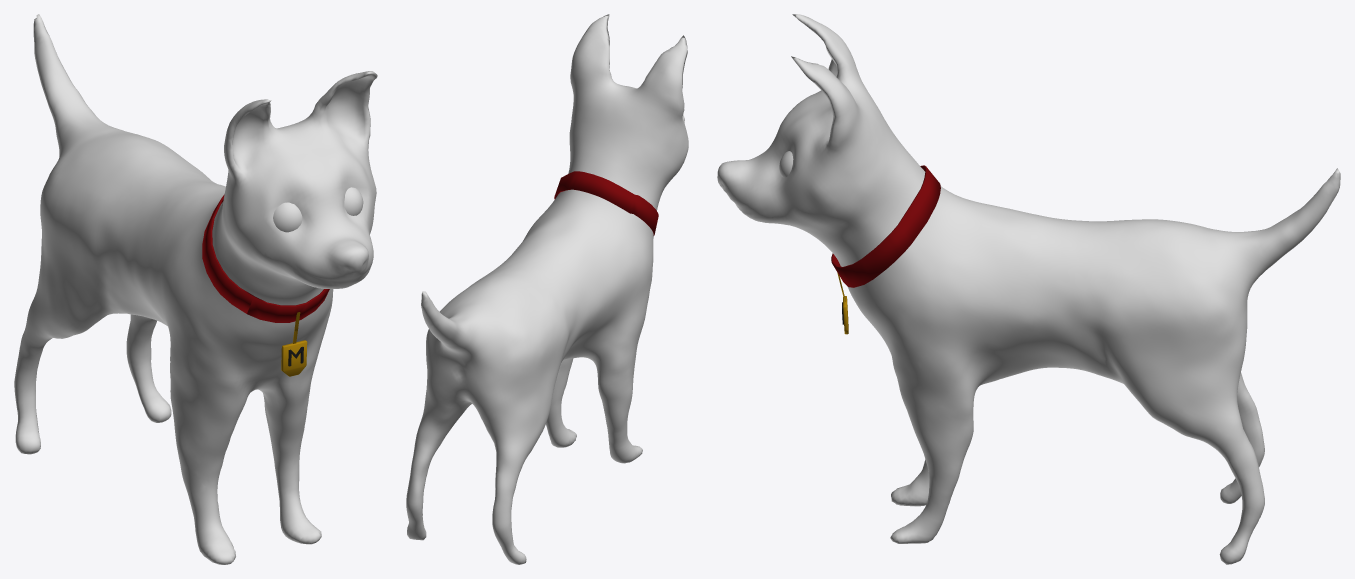
Rendered from small_dog.glb.
3 renders of one model, left to right at view 1: azimuth 30°, elevation 25°; view 2: azimuth 150°, elevation 25°; view 3: azimuth 270°, elevation 25°, orthographic. The views are drawn at different scales.
Visible parts, largest first — view 1: Doguinho; view 2: Doguinho; view 3: Doguinho.
Boxes of the visible parts, left/top/right/bottom form: Doguinho: left=14, top=14, right=377, bottom=564; Doguinho: left=406, top=14, right=688, bottom=564; Doguinho: left=717, top=14, right=1340, bottom=564.
Bounding box in the file's own units: 0.3901 × 1.27 × 1.45.
